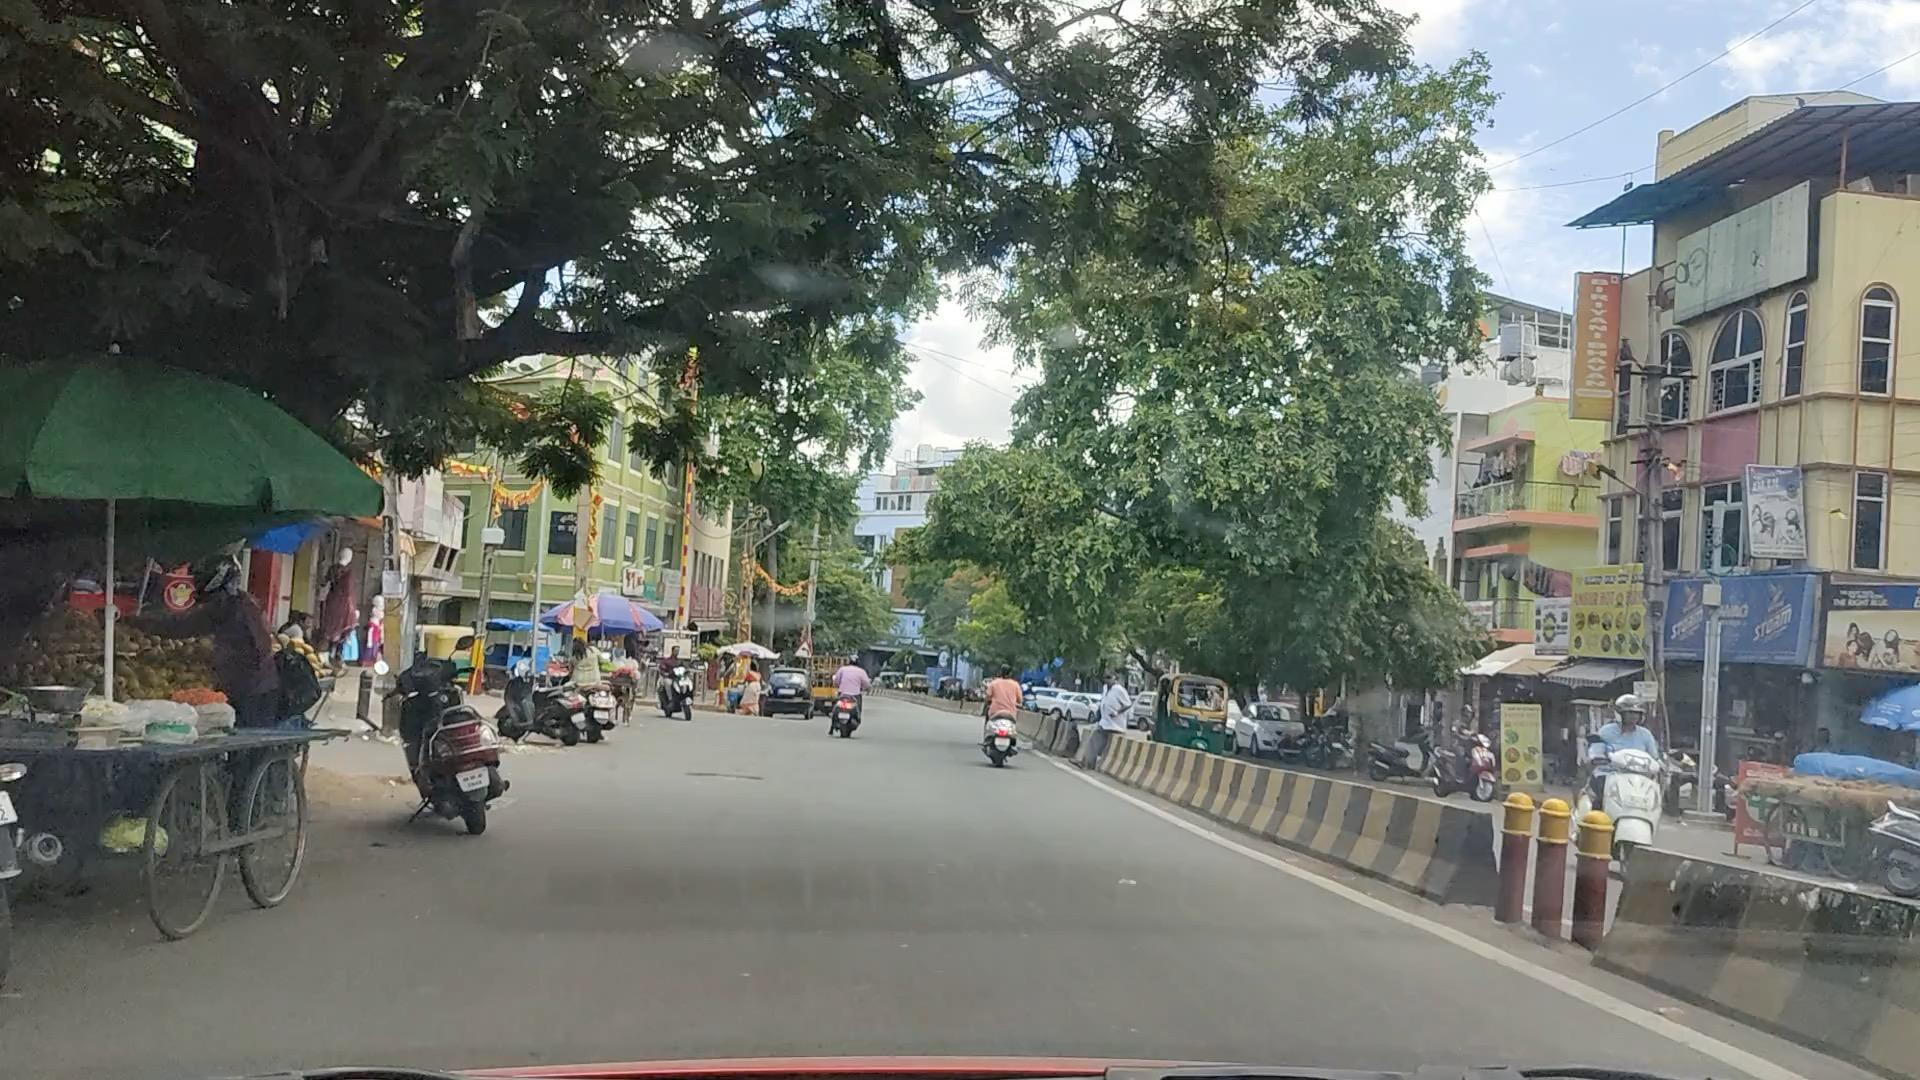LMV: (390, 653, 514, 832), (977, 673, 1021, 766)
